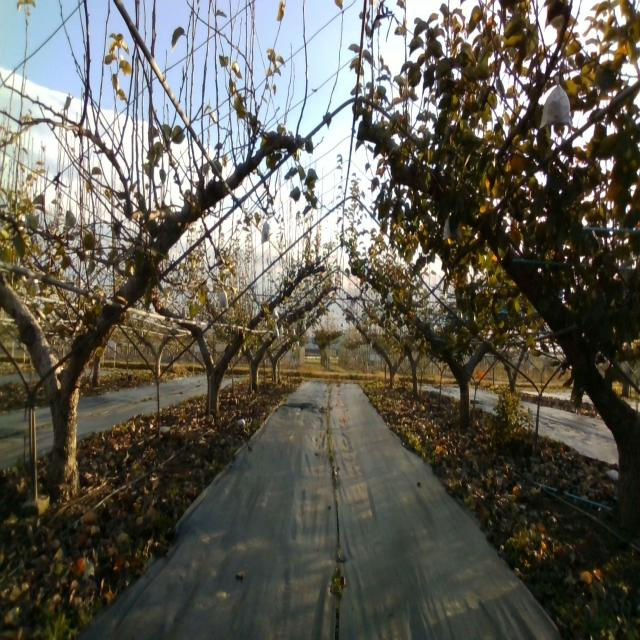pearbags: (539, 75, 573, 130), (217, 286, 229, 309)
